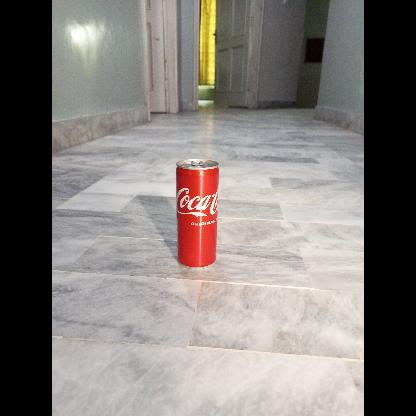Tin_Can: (175, 156, 221, 270)
